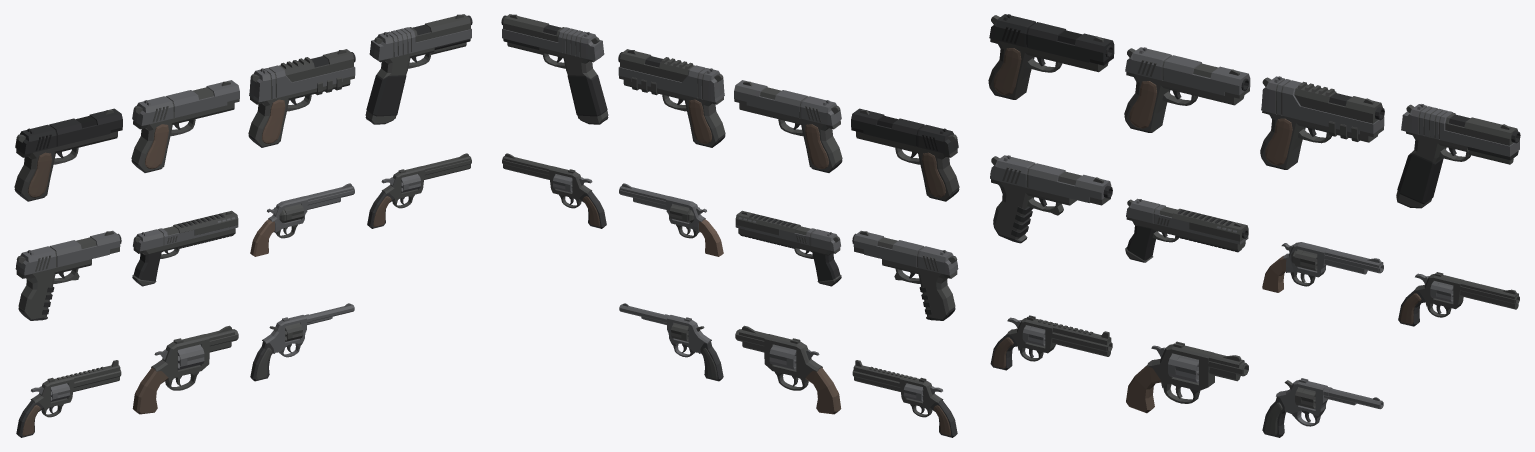
3 views of the same model, side by side, from view 1: azimuth 30°, elevation 25°; view 2: azimuth 150°, elevation 25°; view 3: azimuth 330°, elevation 25° (orthographic). The views are drawn at different scales.
Parts seen in each view (by area): view 1: m2, m3, m0, m1, m4, m9, m5, m8, m7, m6, m10; view 2: m2, m3, m0, m1, m4, m9, m5, m8, m7, m6, m10; view 3: m2, m3, m0, m1, m4, m9, m5, m8, m7, m6, m10.
Boxes of the visible parts, bbox=[...] form: m2: bbox=[248, 49, 355, 147]; m3: bbox=[365, 14, 472, 124]; m0: bbox=[14, 108, 122, 201]; m1: bbox=[131, 80, 239, 172]; m4: bbox=[15, 230, 121, 320]; m9: bbox=[132, 325, 238, 414]; m5: bbox=[132, 210, 238, 286]; m8: bbox=[16, 360, 121, 437]; m7: bbox=[367, 153, 471, 228]; m6: bbox=[250, 183, 354, 256]; m10: bbox=[250, 303, 354, 381]; m2: bbox=[618, 49, 725, 147]; m3: bbox=[501, 14, 608, 124]; m0: bbox=[851, 108, 959, 201]; m1: bbox=[734, 80, 842, 172]; m4: bbox=[852, 230, 958, 320]; m9: bbox=[735, 325, 841, 414]; m5: bbox=[735, 210, 841, 286]; m8: bbox=[852, 360, 957, 437]; m7: bbox=[502, 153, 606, 228]; m6: bbox=[619, 183, 723, 256]; m10: bbox=[619, 303, 723, 381]; m2: bbox=[1260, 76, 1384, 169]; m3: bbox=[1396, 104, 1520, 208]; m0: bbox=[988, 14, 1114, 99]; m1: bbox=[1124, 47, 1250, 132]; m4: bbox=[990, 155, 1112, 243]; m9: bbox=[1126, 341, 1248, 413]; m5: bbox=[1125, 198, 1248, 262]; m8: bbox=[990, 315, 1112, 370]; m7: bbox=[1398, 272, 1519, 326]; m6: bbox=[1262, 242, 1383, 292]; m10: bbox=[1262, 378, 1383, 437].
Size of the model in its own units: 4.45 by 3.02 by 0.1999.
